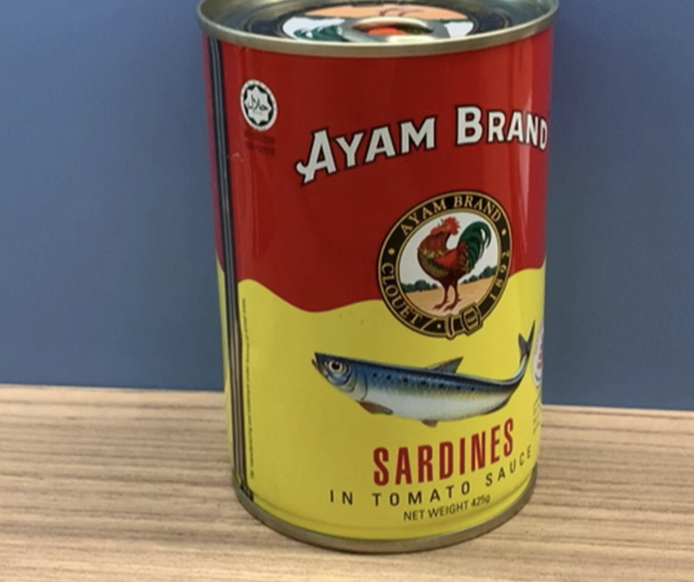sardines_450g: (224, 40, 530, 517)
